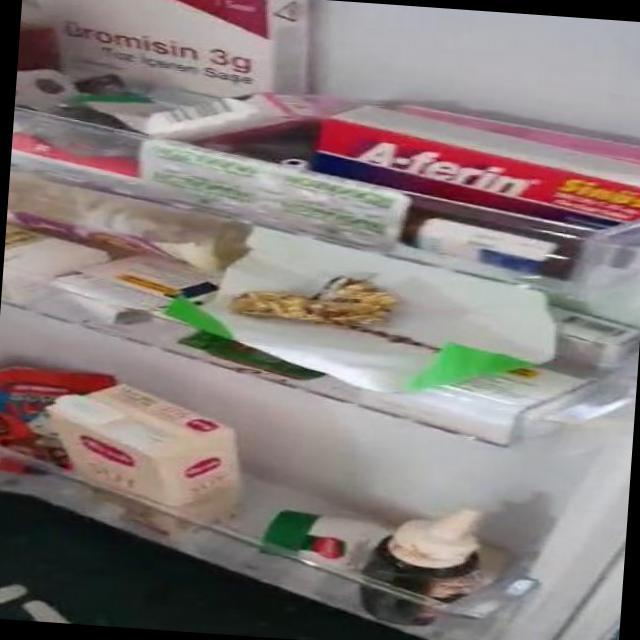milk: (53, 381, 250, 521)
